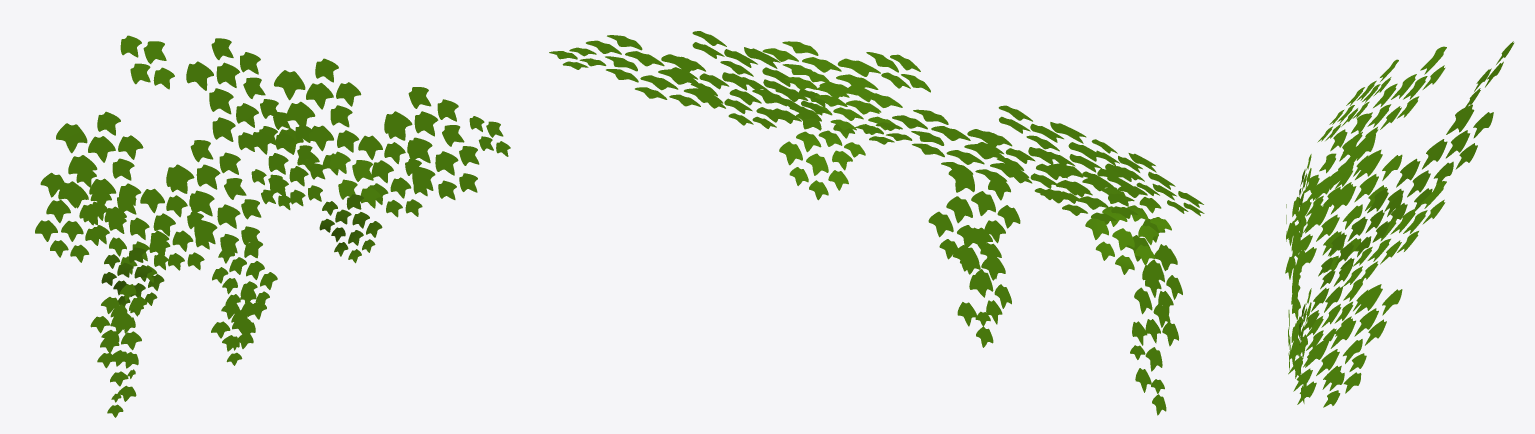
The model's file is Prop_Vine6.gltf.
The picture shows the model from 3 angles, left to right: view 1: azimuth 30°, elevation 25°; view 2: azimuth 150°, elevation 25°; view 3: azimuth 270°, elevation 25°; orthographic projection. The views are drawn at different scales.
Visible parts, largest first — view 1: Prop_Vine6; view 2: Prop_Vine6; view 3: Prop_Vine6.
Part boxes in pixels (bbox=[...]): Prop_Vine6: bbox=[35, 35, 510, 417]; Prop_Vine6: bbox=[549, 31, 1204, 415]; Prop_Vine6: bbox=[1285, 41, 1514, 407].
Size of the model in its own units: 4.14 by 2.47 by 1.47.
Materials: 1 (1 with a texture image).
